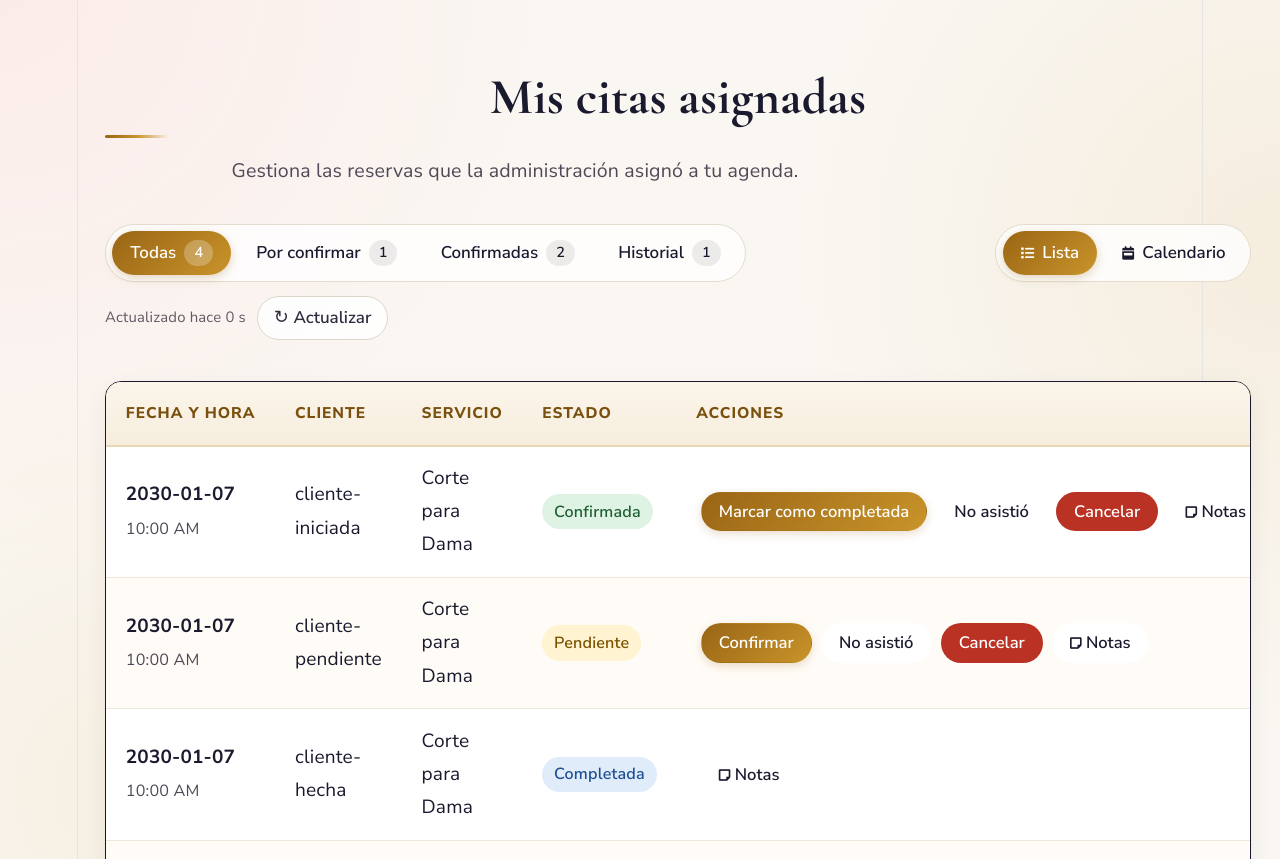
Test: StylistAppointments › cambia a la vista de calendario semanal con las citas no canceladas
The image size is (1280, 859).
Expected: the text "cliente-iniciada" is shown, [275,446,402,577]
Step 1. Click the button "Calendario" → (1174, 253), box [1104,231,1244,275]
(page scrolled)
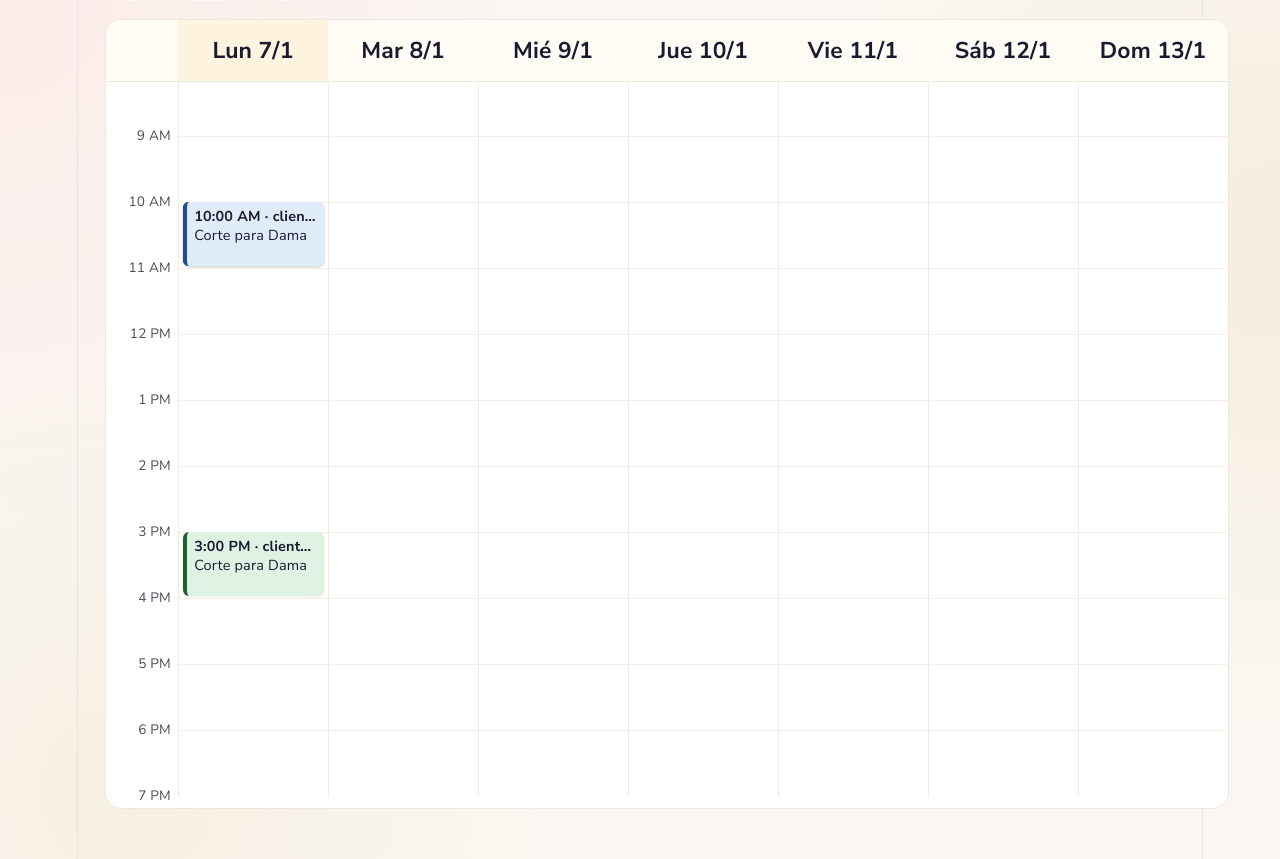
Expected: the number of list items is 4, [183,202,324,266]; [183,202,324,266]; [183,202,324,266]; [183,532,324,596]
Expected: the list item with aria-label "3:00 PM, Corte para Dama, cliente-futura, Confirmada" is shown, [183,532,324,596]
